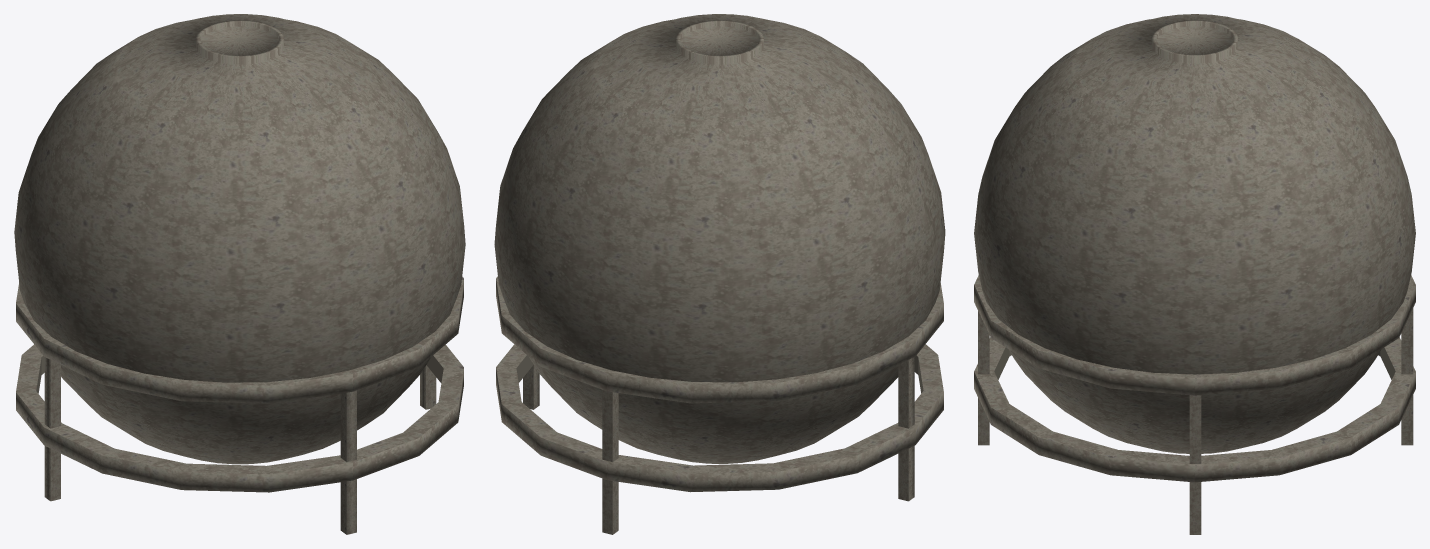
The model's file is refinery_sphere.glb.
3 views of the same model, side by side, from view 1: azimuth 30°, elevation 25°; view 2: azimuth 150°, elevation 25°; view 3: azimuth 270°, elevation 25° (orthographic). The views are drawn at different scales.
Parts seen in each view (by area): view 1: Prop.refinery_sphere; view 2: Prop.refinery_sphere; view 3: Prop.refinery_sphere.
Part boxes in pixels (box(x1,y1,x2,y2)): Prop.refinery_sphere: box(14, 14, 465, 534); Prop.refinery_sphere: box(494, 14, 945, 534); Prop.refinery_sphere: box(974, 14, 1415, 534).
Bounding box in the file's own units: 6 × 6.06 × 6.
1 material, 1 textured.
